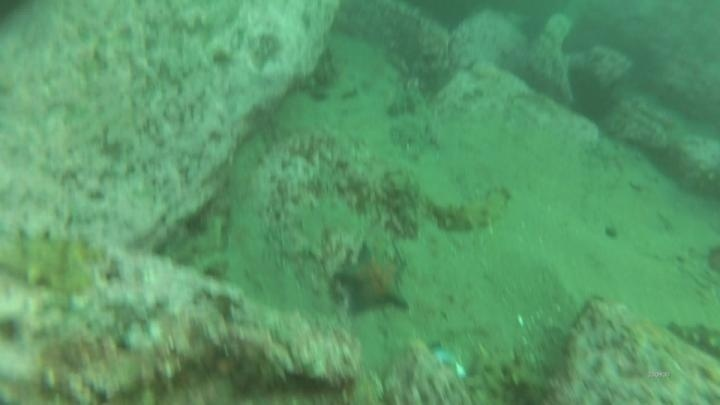echinus: (564, 63, 619, 125)
holothurian: (0, 224, 114, 298), (461, 343, 555, 404), (427, 183, 515, 237), (381, 169, 424, 241), (662, 315, 720, 359)
starfish: (332, 241, 413, 320)
